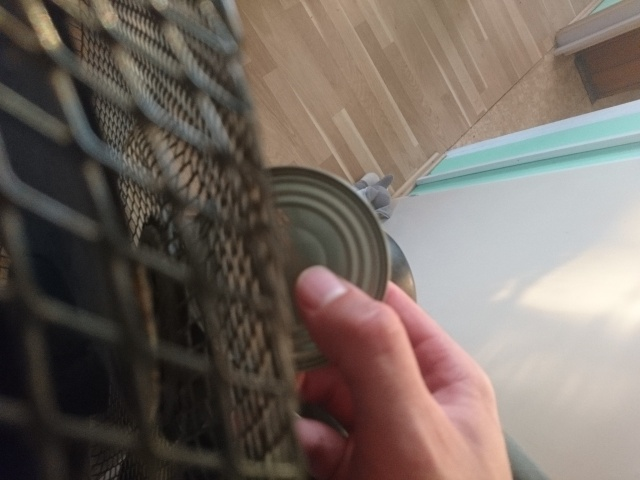Podravka Luncheon Meat 150g: (175, 161, 395, 377)
